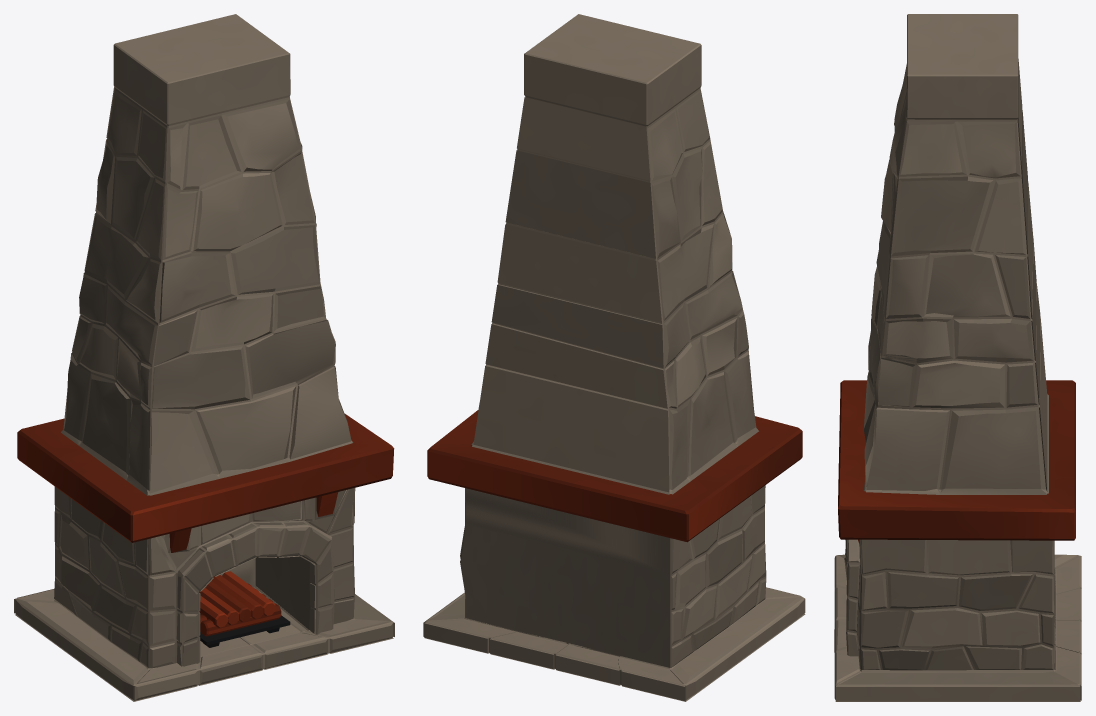
The model's file is Fireplace.fbx.
3 renders of one model, left to right at view 1: azimuth 30°, elevation 25°; view 2: azimuth 150°, elevation 25°; view 3: azimuth 270°, elevation 25°, orthographic. The views are drawn at different scales.
Parts seen in each view (by area): view 1: FirePlace, FuelWood, shelf; view 2: FirePlace; view 3: FirePlace.
Part boxes in pixels (x1,y1,x2,y2): FirePlace: (14,14,394,701); FuelWood: (199,571,281,636); shelf: (199,615,290,647); FirePlace: (423,14,805,701); FirePlace: (834,14,1081,701).
Size of the model in its own units: 2.32 by 4.85 by 1.83.
